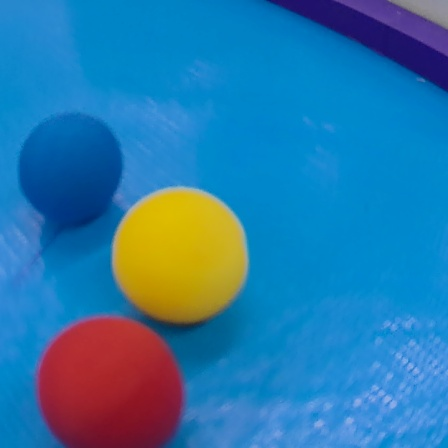blue: (14, 103, 123, 224)
blue_aim: (0, 2, 448, 448)
red: (35, 312, 213, 448)
yellow: (111, 183, 257, 331)
